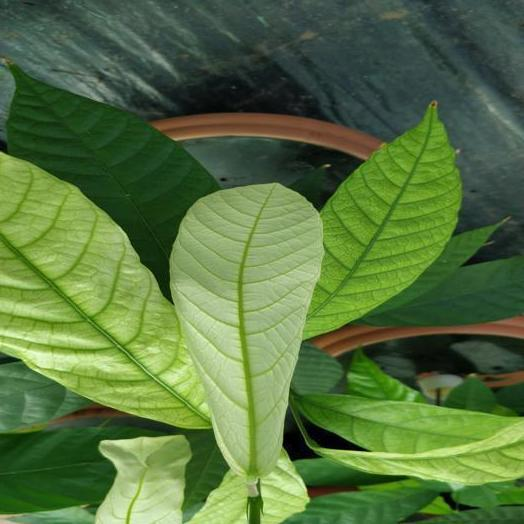Healthy Leaf: (7, 66, 218, 298), (0, 426, 138, 513), (372, 222, 501, 313), (363, 256, 523, 325), (0, 361, 90, 431), (284, 488, 433, 523), (346, 350, 427, 402), (291, 342, 342, 394)
Iron: (0, 154, 208, 427), (171, 183, 323, 497), (304, 107, 460, 337), (298, 419, 523, 484), (299, 394, 513, 453), (95, 436, 191, 523), (186, 471, 262, 523), (262, 451, 308, 523)
